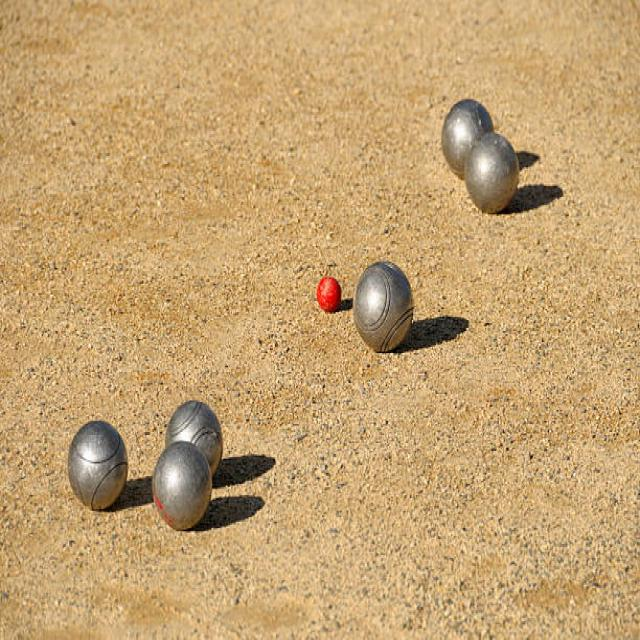hatball: (313, 268, 346, 319)
petanque: (63, 416, 134, 521), (144, 438, 214, 539), (352, 259, 418, 359), (161, 387, 227, 481), (461, 133, 526, 225), (435, 92, 499, 182)
